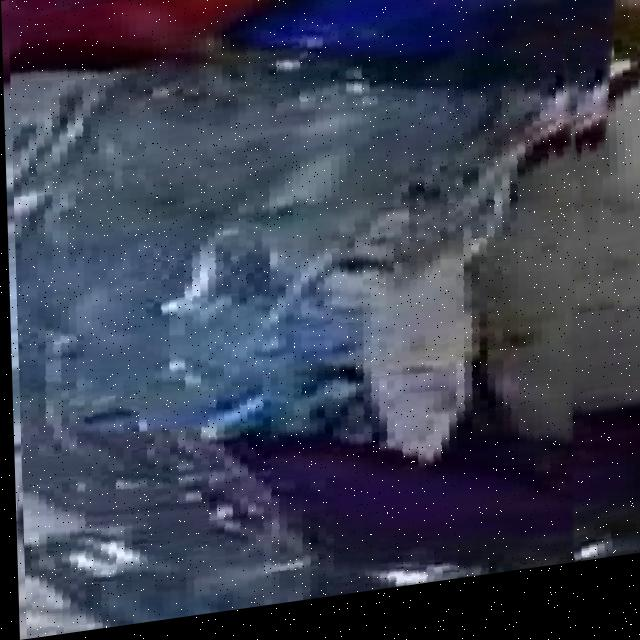plasticbottle: (7, 0, 617, 639)
